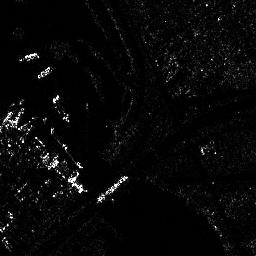ship: (98, 175, 128, 203), (36, 66, 54, 79), (19, 51, 40, 62)
